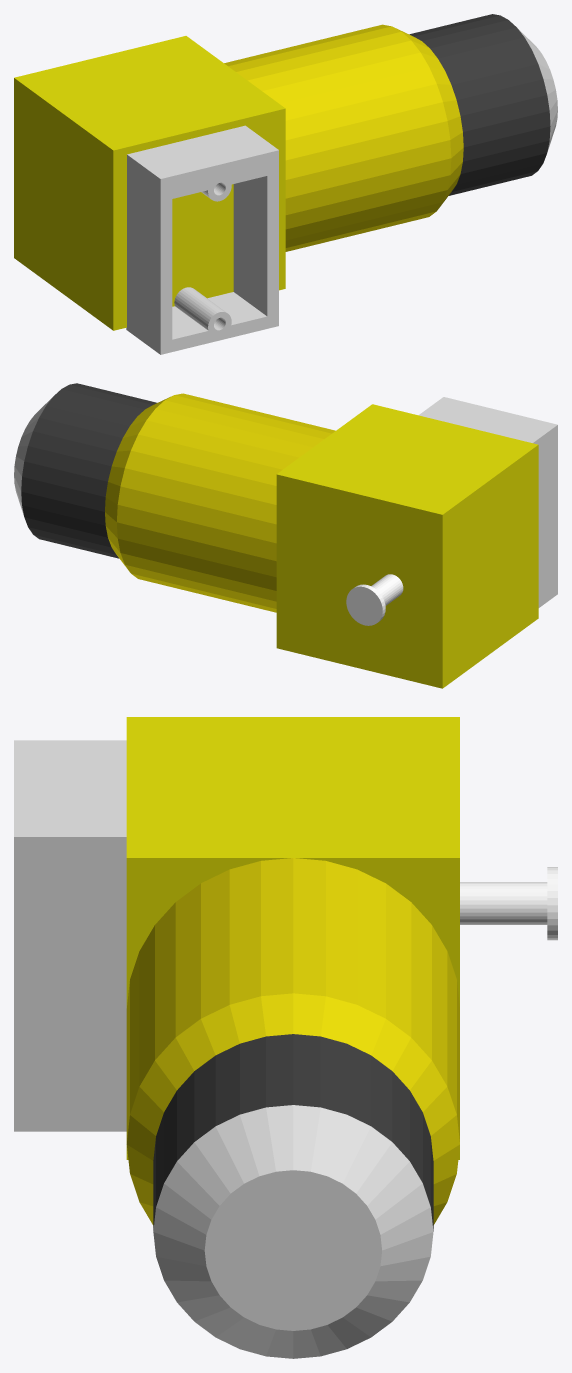
File: combinded_motor.fbx
3 views of the same model, one above another, from view 1: azimuth 30°, elevation 25°; view 2: azimuth 150°, elevation 25°; view 3: azimuth 270°, elevation 25° (orthographic). The views are drawn at different scales.
Parts seen in each view (by area): view 1: 圓柱體, Cube.001, Cube, 圓柱體.001, 圓柱體.002; view 2: Cube.001, 圓柱體, Cube, 圓柱體.003; view 3: 圓柱體, Cube.001, Cube, 圓柱體.003.
Part boxes in pixels (<box>): 圓柱體: <box>224,14,557,251</box>; Cube.001: <box>14,36,285,330</box>; Cube: <box>126,125,278,354</box>; 圓柱體.001: <box>174,287,231,336</box>; 圓柱體.002: <box>201,176,231,201</box>; Cube.001: <box>276,404,538,688</box>; 圓柱體: <box>14,383,335,612</box>; Cube: <box>419,397,557,607</box>; 圓柱體.003: <box>346,574,403,625</box>; 圓柱體: <box>126,858,459,1358</box>; Cube.001: <box>126,717,459,1159</box>; Cube: <box>14,740,126,1131</box>; 圓柱體.003: <box>460,867,557,940</box>.
Size of the model in its own units: 543 by 203 by 326.
